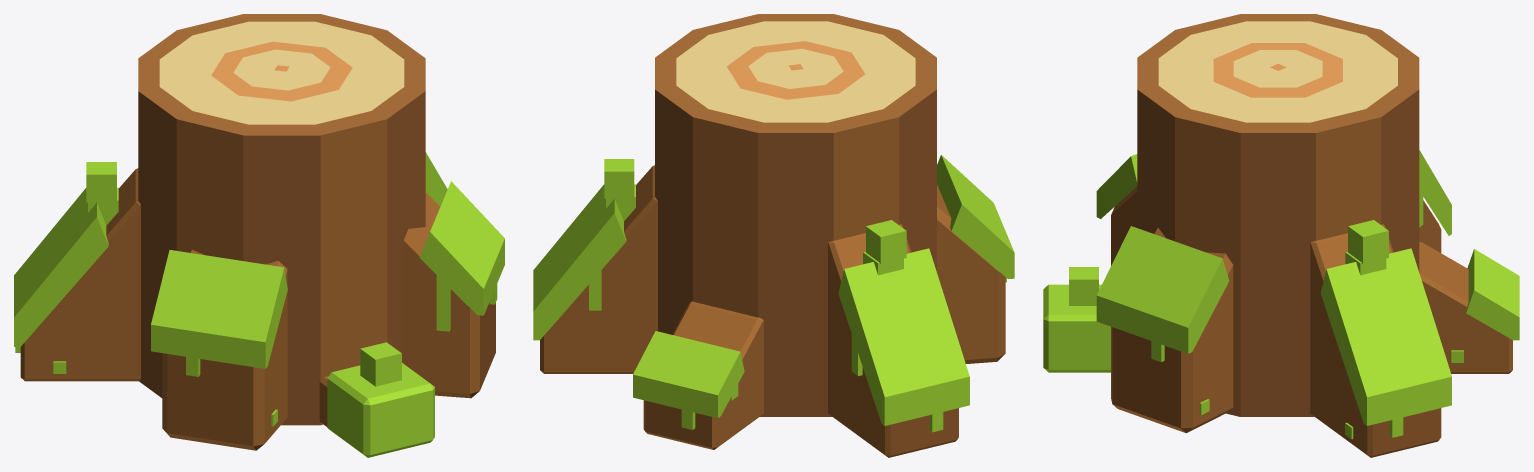
The model's file is MossyGlade_TreeStump.glb.
3 renders of one model, left to right at view 1: azimuth 30°, elevation 25°; view 2: azimuth 150°, elevation 25°; view 3: azimuth 270°, elevation 25°, orthographic. The views are drawn at different scales.
Parts seen in each view (by area): view 1: Trunk, Ring_1, Root_BL, Moss_FL, Root_FL, Root_FR, Top_Rim, Moss_F, Moss_BL, Moss_FR, Ring_2, Ring_3 (+4 smaller); view 2: Trunk, Moss_BL, Ring_1, Root_BR, Root_BL, Root_B, Top_Rim, Root_FL, Moss_B, Moss_BR, Moss_FL, Ring_2 (+3 smaller); view 3: Trunk, Moss_BR, Ring_1, Moss_FR, Root_FR, Root_BR, Top_Rim, Root_B, Moss_F, Moss_B, Ring_2, Ring_3 (+6 smaller).
Boxes of the visible parts, x1,y1,x2,y2 form: Trunk: (138, 91, 425, 425); Ring_1: (159, 21, 404, 124); Root_BL: (20, 168, 140, 381); Moss_FL: (151, 250, 287, 368); Root_FL: (162, 249, 287, 450); Root_FR: (403, 193, 495, 398); Top_Rim: (138, 14, 425, 135); Moss_F: (327, 363, 434, 457); Moss_BL: (14, 188, 108, 346); Moss_FR: (419, 181, 504, 315); Ring_2: (211, 41, 352, 101); Ring_3: (233, 49, 330, 90); Trunk: (655, 89, 936, 416); Moss_BL: (838, 248, 969, 425); Ring_1: (676, 21, 915, 122); Root_BR: (540, 165, 657, 373); Root_BL: (828, 224, 958, 457); Root_B: (643, 301, 763, 449); Top_Rim: (655, 14, 936, 132); Root_FL: (937, 185, 1005, 363); Moss_B: (633, 331, 744, 418); Moss_BR: (533, 184, 626, 340); Moss_FL: (937, 155, 1014, 278); Ring_2: (726, 41, 865, 99); Trunk: (1137, 89, 1419, 416); Moss_BR: (1320, 248, 1451, 425); Ring_1: (1158, 21, 1397, 122); Moss_FR: (1096, 226, 1229, 353); Root_FR: (1111, 228, 1233, 433); Root_BR: (1310, 224, 1441, 457); Top_Rim: (1137, 14, 1419, 132); Root_B: (1419, 242, 1512, 373); Moss_F: (1043, 284, 1110, 372); Moss_B: (1466, 249, 1519, 340); Ring_2: (1213, 43, 1342, 97); Ring_3: (1233, 50, 1322, 87).
Size of the model in its own units: 1.18 by 0.75 by 1.12.
